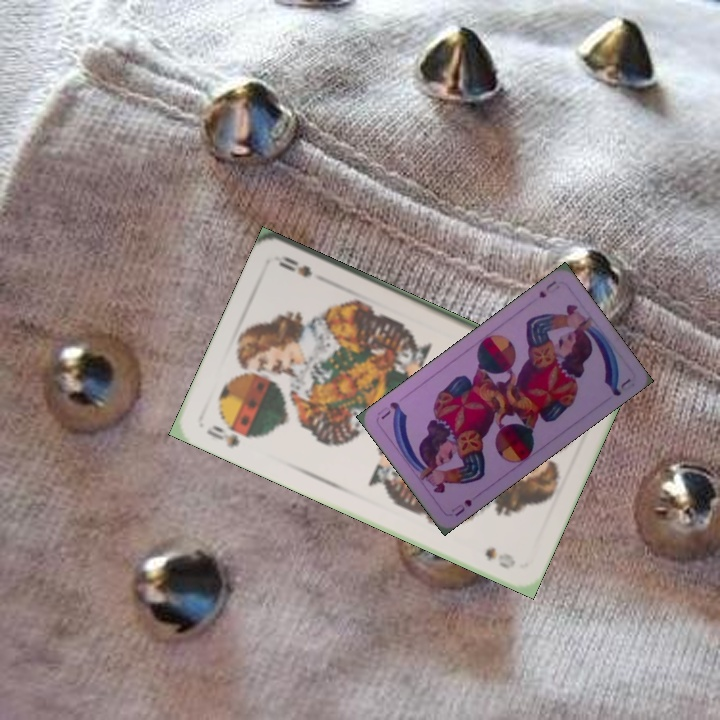SO: (202, 421, 253, 451)
SU: (447, 495, 475, 519), (535, 276, 559, 301)
